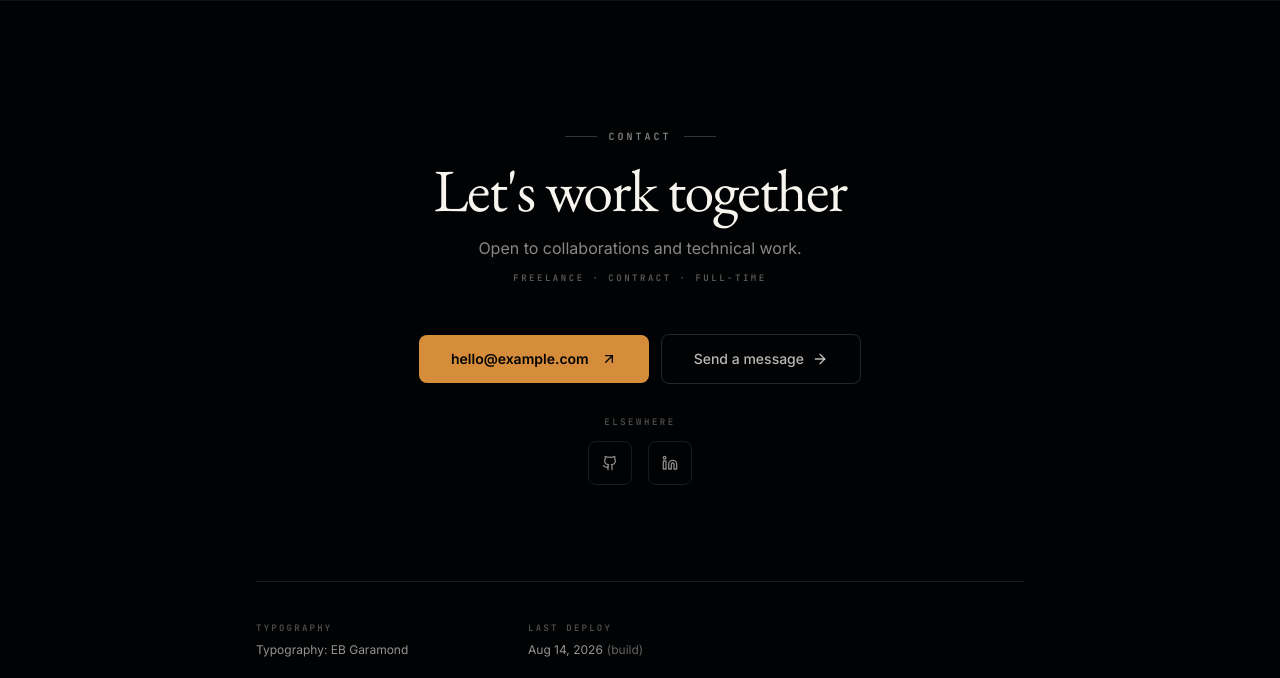
Test: Contact section › shows validation error for invalid email
Click the button "Send a message": (761, 358) [661, 334, 861, 384]
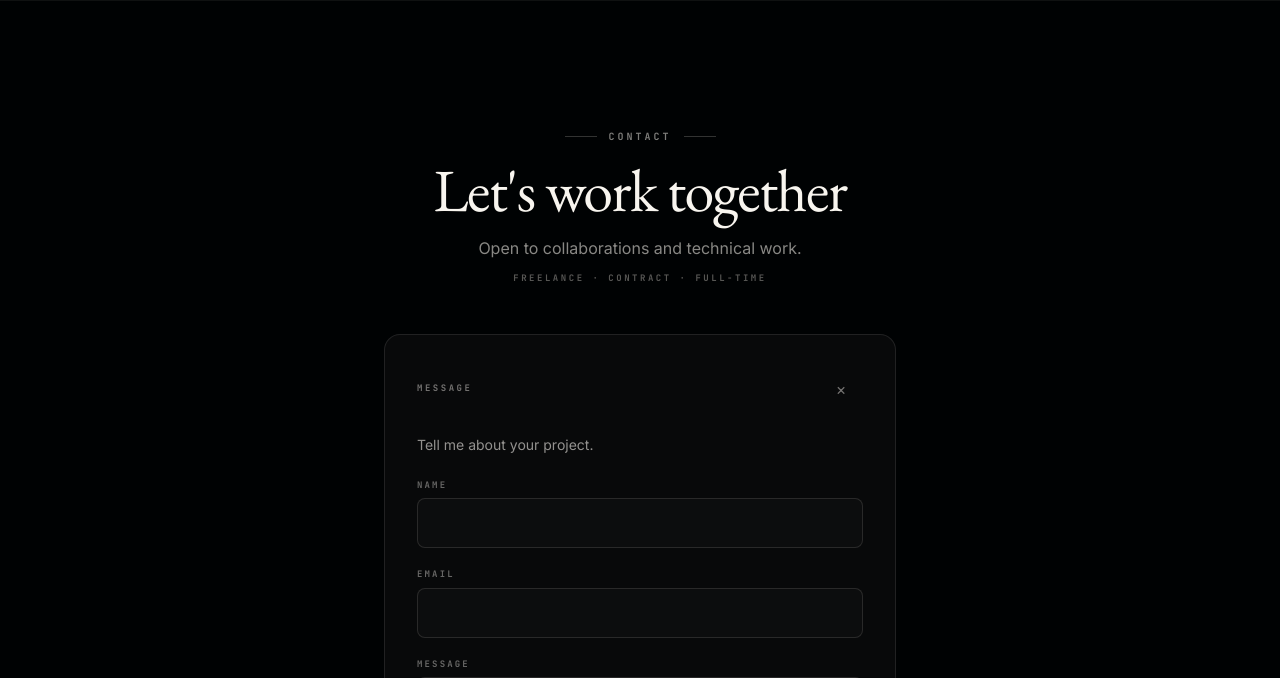
In the field labelled "Email": (640, 612) [417, 588, 863, 638], type "not-an-email"
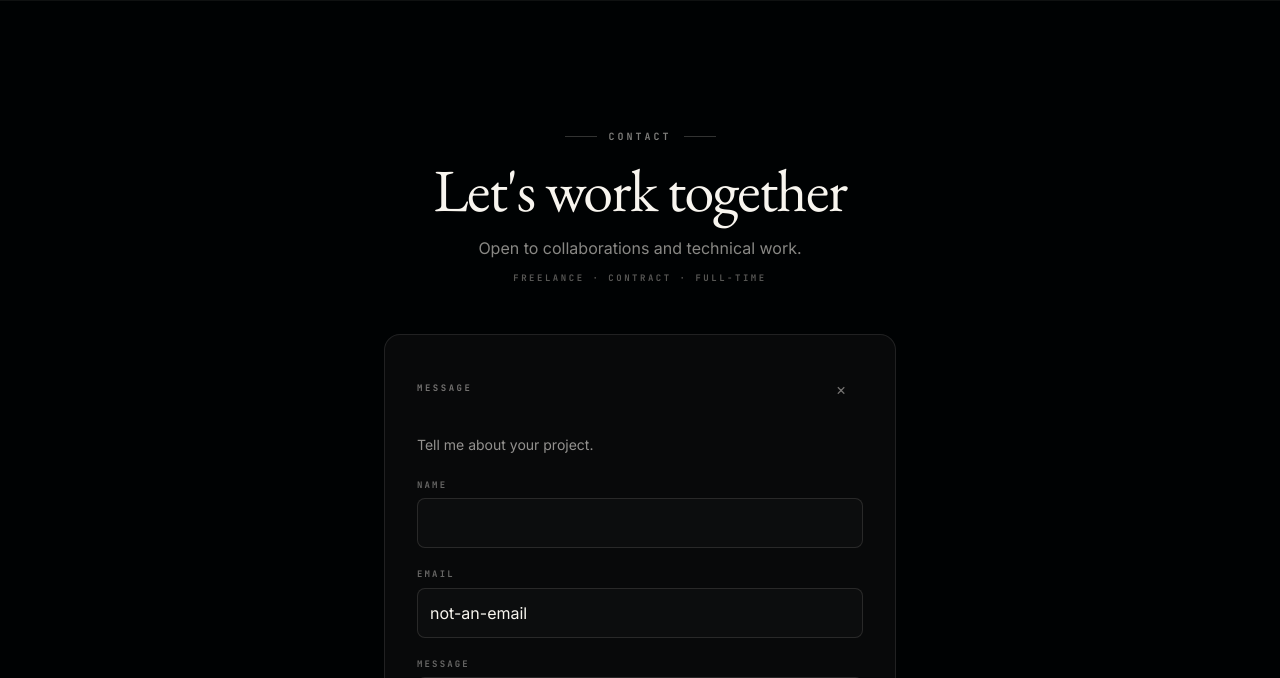
Leave the field labelled "Email", box [417, 588, 863, 638]
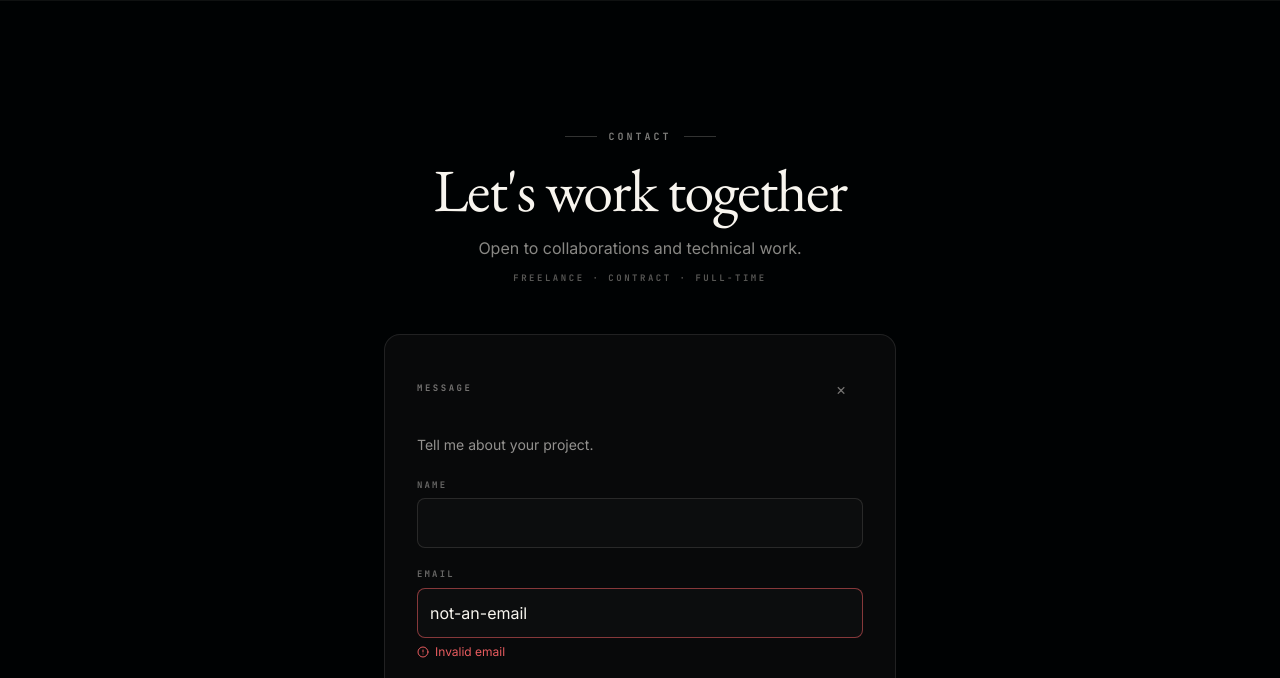
Result: the text "Invalid email" is shown at [417, 644, 505, 658]
